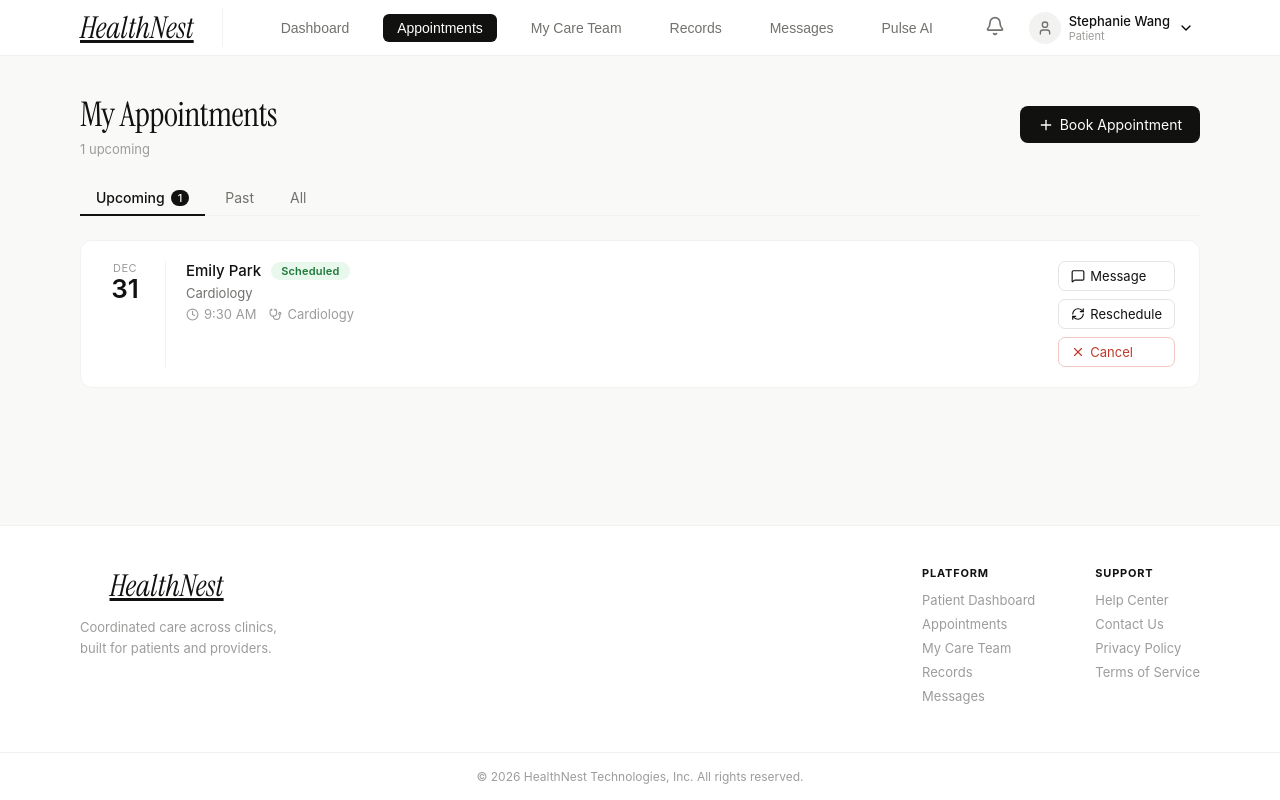
Test: AppointmentsPage › shows all appointments when All tab is selected
The width and height of the screenshot is (1280, 800).
Check: the text "Emily Park" is shown, box [186, 261, 261, 280]
Click the button "All": (298,198) [274, 181, 322, 216]
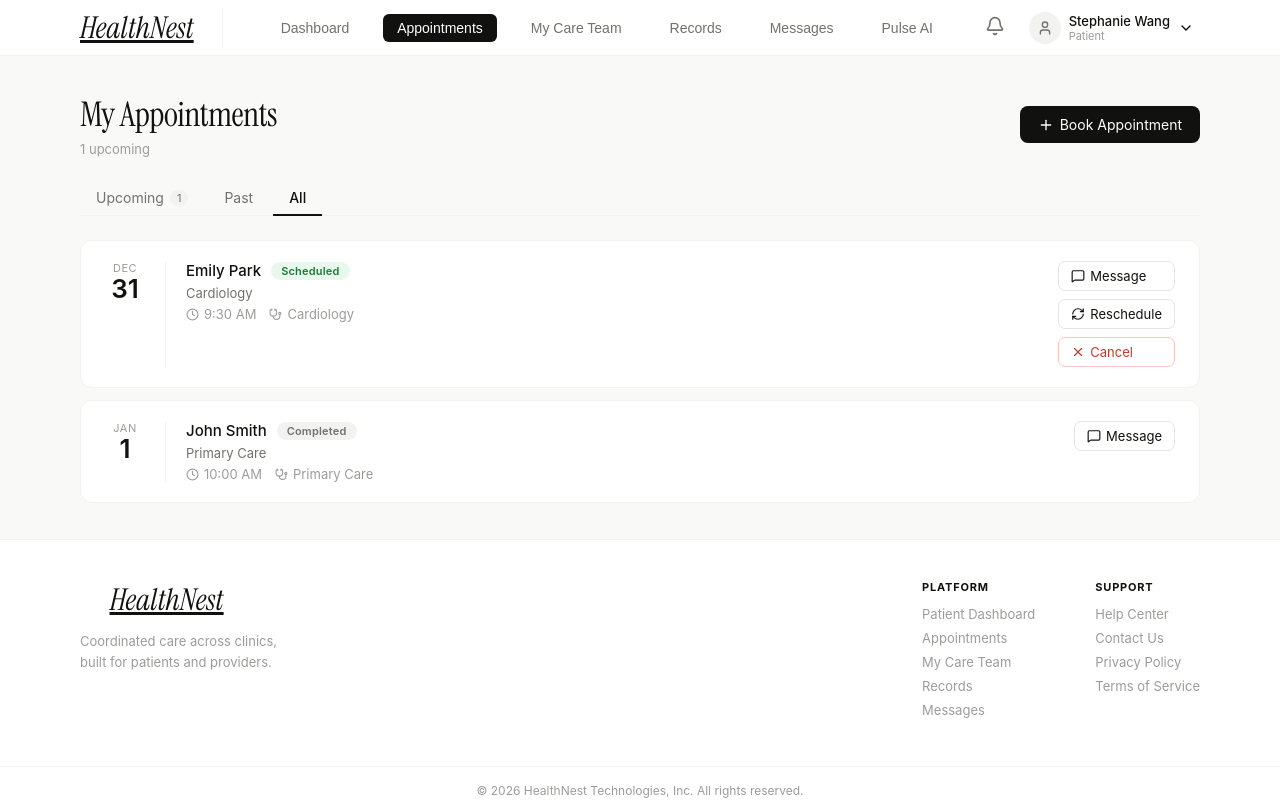
Check: the text "Emily Park" is shown, box [186, 261, 261, 280]
Check: the text "John Smith" is shown, box [186, 421, 267, 440]
